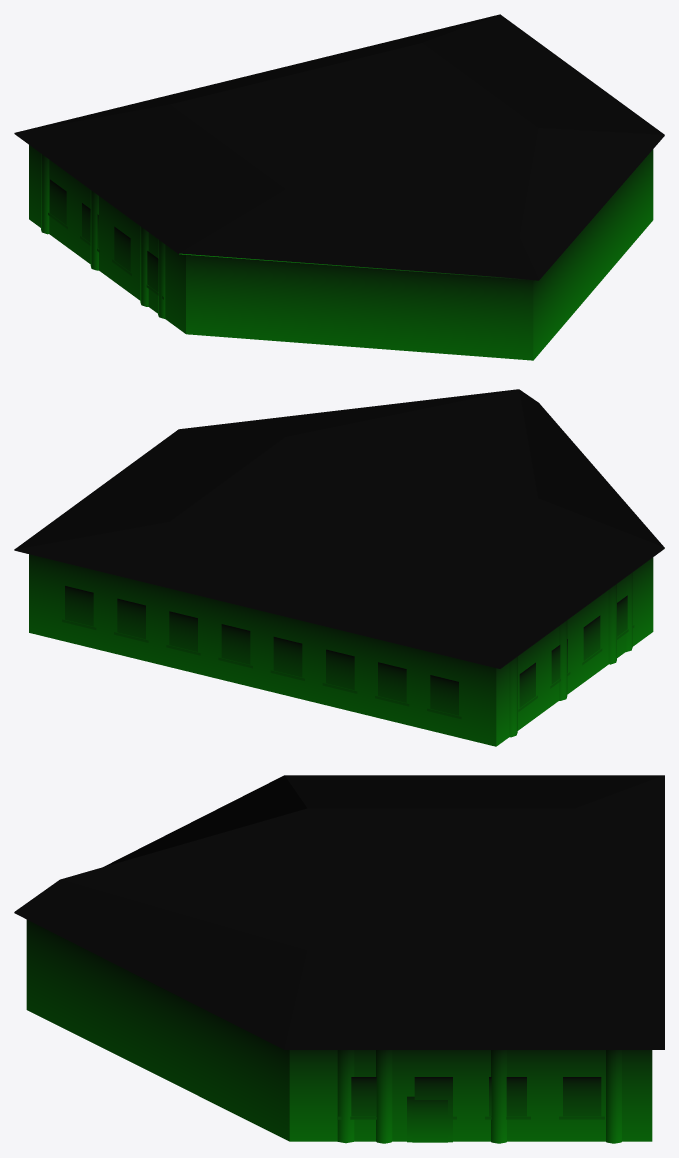
File: s_adminquarter.glb
The picture shows the model from 3 angles, top to bottom: view 1: azimuth 30°, elevation 25°; view 2: azimuth 150°, elevation 25°; view 3: azimuth 270°, elevation 25°; orthographic projection. The views are drawn at different scales.
Visible parts, largest first — view 1: lod0; view 2: lod0; view 3: lod0.
Boxes of the visible parts, x1,y1,x2,y2 form: lod0: (14,14,664,360); lod0: (14,389,664,746); lod0: (14,775,664,1143).
Size of what is drawn, in the model's own units: 25.4 by 5.64 by 25.5.
